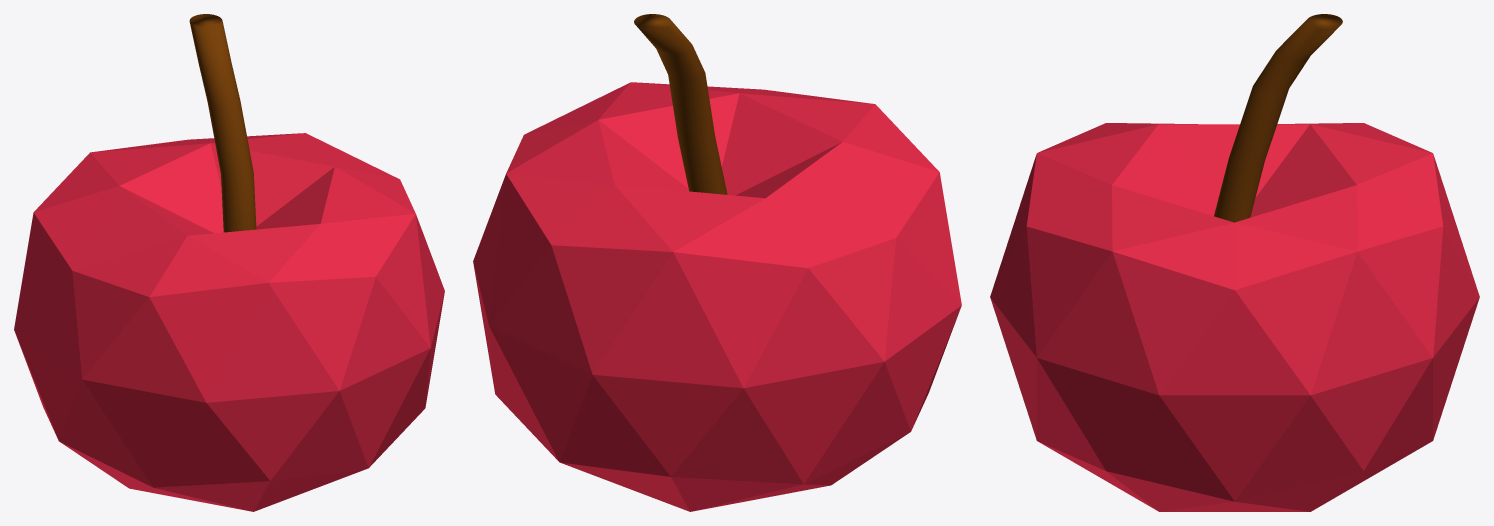
The picture shows the model from 3 angles, left to right: view 1: azimuth 30°, elevation 25°; view 2: azimuth 150°, elevation 25°; view 3: azimuth 270°, elevation 25°; orthographic projection. The views are drawn at different scales.
Visible parts, largest first — view 1: Icosphere, Cylinder; view 2: Icosphere, Cylinder; view 3: Icosphere, Cylinder.
Boxes of the visible parts, box(x1,y1,x2,y2) form: Icosphere: box(14, 133, 444, 511); Cylinder: box(189, 14, 256, 232); Icosphere: box(473, 82, 961, 511); Cylinder: box(634, 14, 727, 194); Icosphere: box(990, 123, 1479, 511); Cylinder: box(1214, 14, 1342, 222).
Bounding box in the file's own units: 1.9 × 2.2 × 2.
